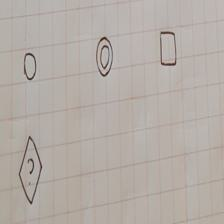association: (22, 51, 38, 80)
dissociation: (96, 35, 114, 77)
process: (159, 31, 177, 66)
replacement-glyph: (19, 136, 43, 205)
